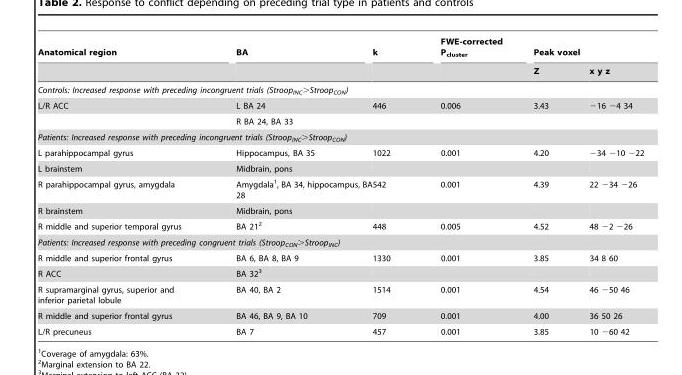table: (37, 36, 643, 335)
table column: (37, 36, 208, 335), (208, 36, 371, 335), (414, 36, 517, 335), (568, 36, 643, 335), (517, 36, 568, 335), (371, 36, 414, 335)
table column header: (37, 36, 643, 80)
table projected row header: (37, 80, 643, 97), (37, 129, 643, 145), (37, 234, 643, 250)
table row: (37, 175, 643, 202), (37, 281, 643, 307), (37, 36, 643, 61), (37, 61, 643, 80), (37, 80, 643, 97), (37, 217, 643, 234), (37, 264, 643, 281), (37, 97, 643, 113), (37, 113, 643, 129), (37, 129, 643, 145), (37, 234, 643, 250), (37, 307, 643, 323), (37, 145, 643, 160), (37, 160, 643, 175), (37, 202, 643, 217), (37, 250, 643, 264), (37, 323, 643, 335)
table spanning cell: (37, 36, 208, 80), (208, 36, 371, 80), (37, 97, 208, 129), (414, 36, 517, 80), (517, 36, 643, 61), (371, 36, 414, 80)
